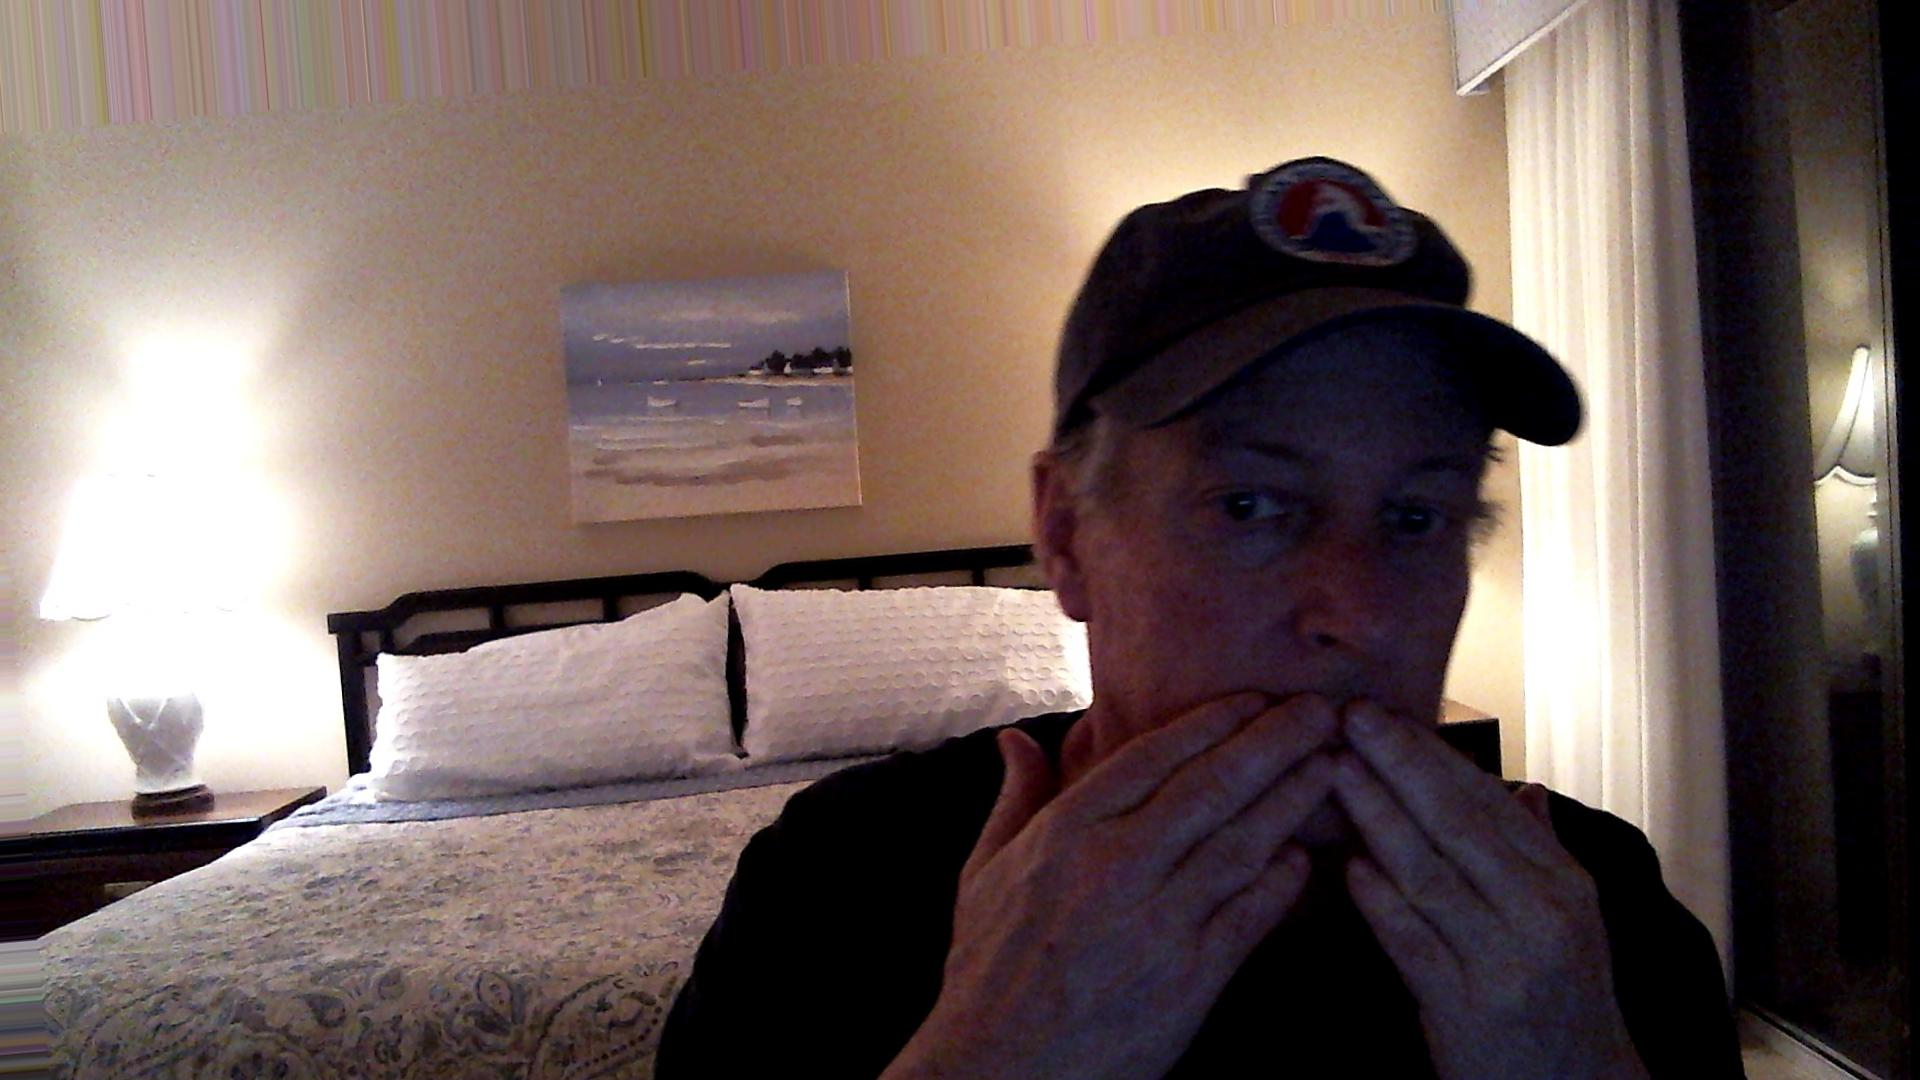Thank You: (949, 673, 1633, 1048)
